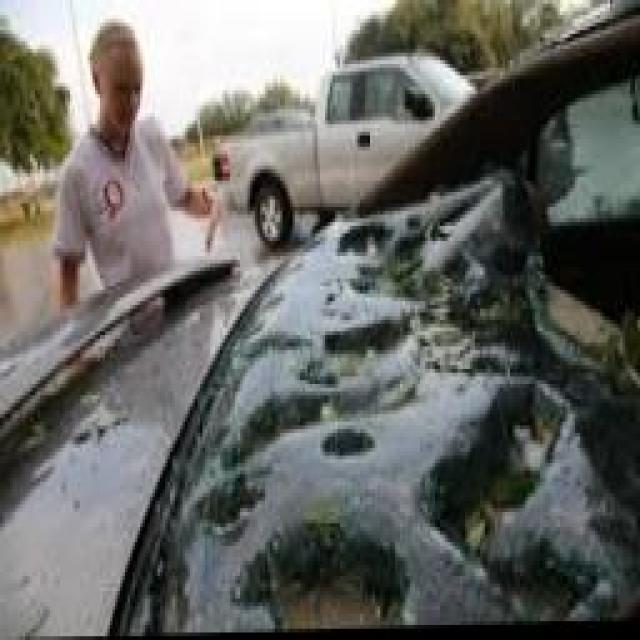Windshield: (111, 31, 640, 637)
